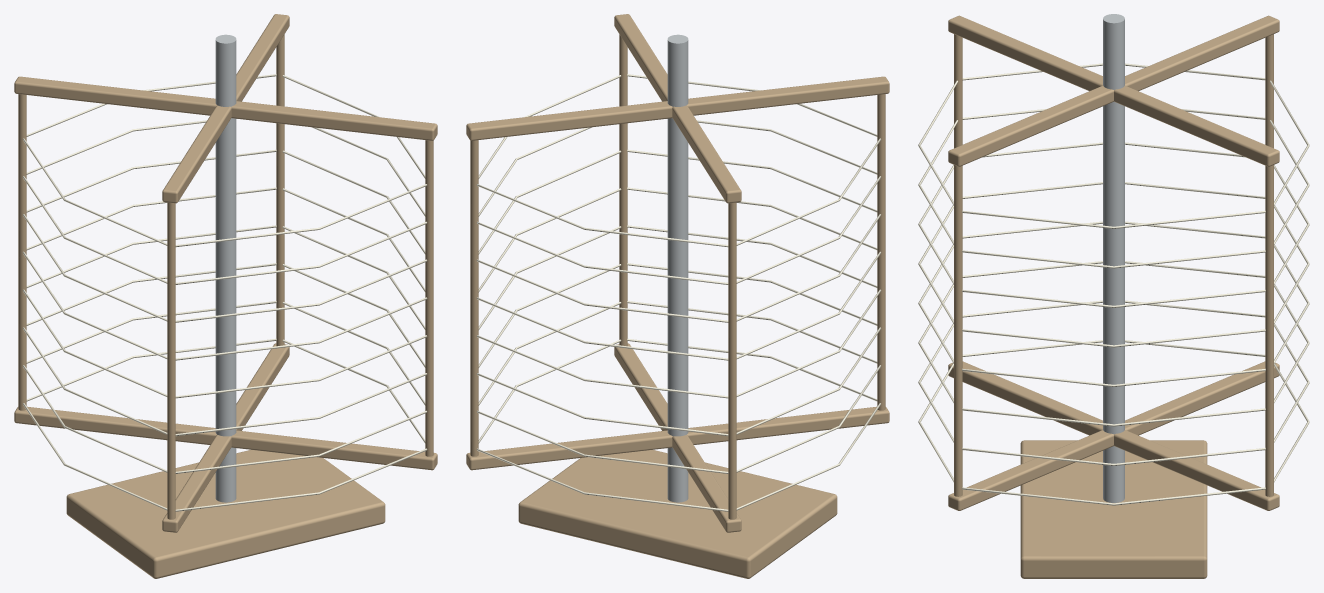
The model's file is textile-weaving-and-dye-workshop-warping-mill-110132e6__29536.glb.
3 renders of one model, left to right at view 1: azimuth 30°, elevation 25°; view 2: azimuth 150°, elevation 25°; view 3: azimuth 270°, elevation 25°, orthographic. The views are drawn at different scales.
Parts seen in each view (by area): view 1: warping-mill; view 2: warping-mill; view 3: warping-mill.
Boxes of the visible parts, bbox=[...] form: warping-mill: bbox=[14, 14, 437, 578]; warping-mill: bbox=[466, 14, 889, 578]; warping-mill: bbox=[918, 14, 1309, 578].
Size of the model in its own units: 1.26 by 1.78 by 1.26.
